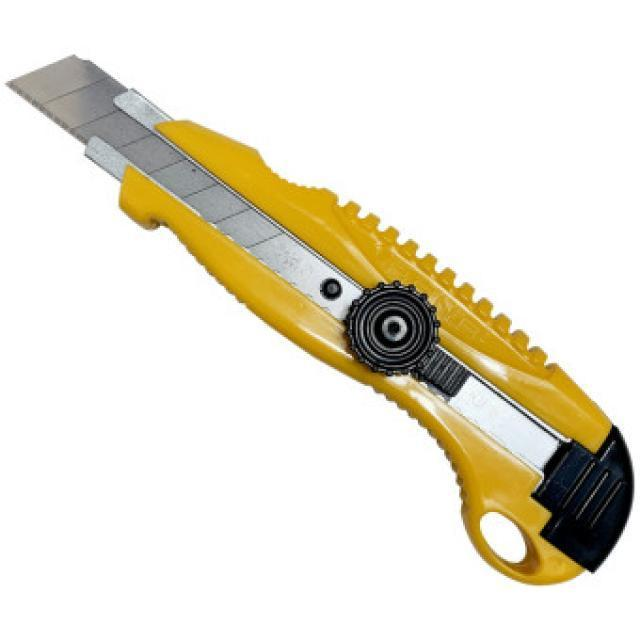cutter: (1, 30, 636, 590)
